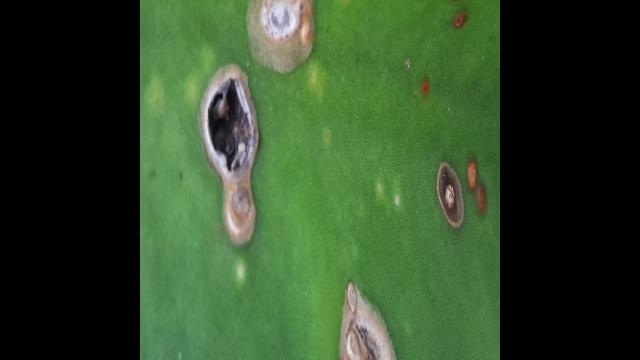stemcanker: (244, 1, 324, 81), (335, 277, 400, 360), (430, 159, 465, 230), (464, 154, 479, 193), (474, 180, 488, 217), (450, 10, 469, 34), (420, 74, 432, 99)
